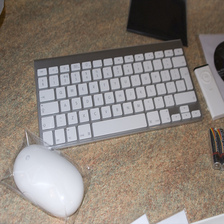laptop: (118, 1, 207, 52)
